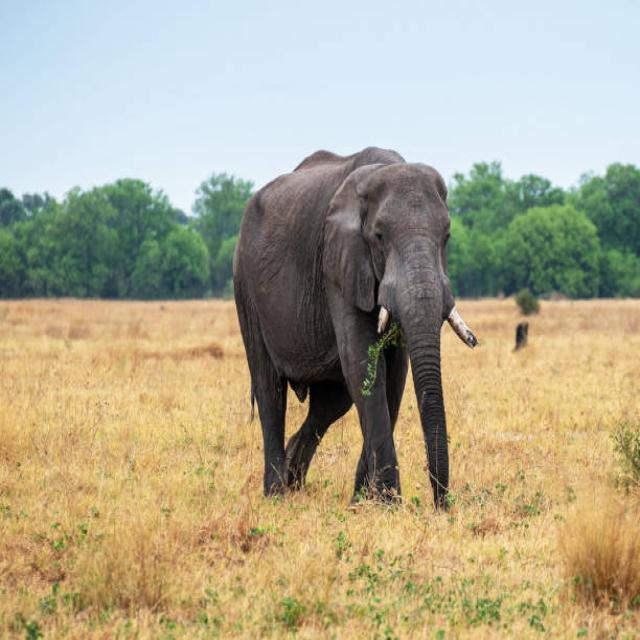Elephant: (219, 129, 487, 551)
